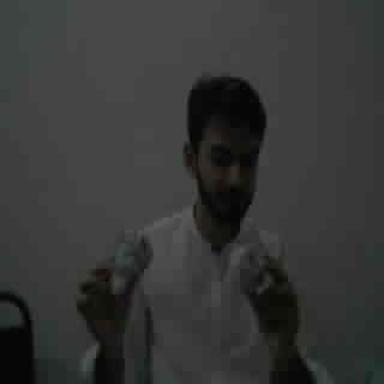paper: (234, 237, 271, 294), (118, 259, 134, 288), (127, 243, 138, 261)
